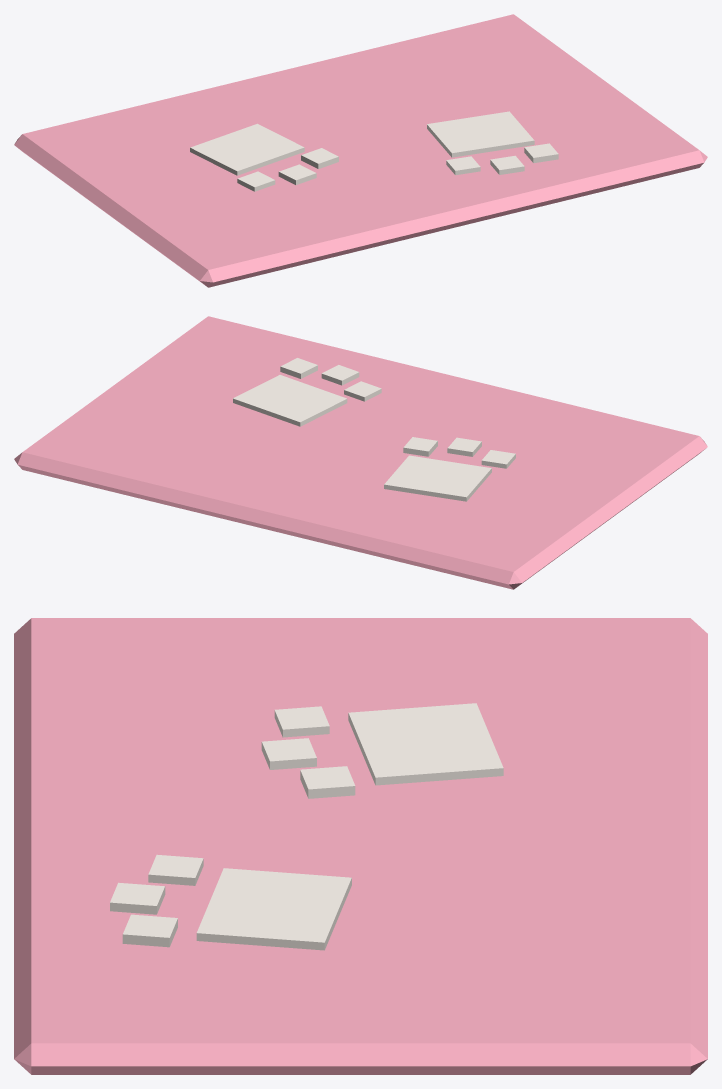
File: CleanACat_Prop_QueueMat.fbx
3 renders of one model, top to bottom at view 1: azimuth 30°, elevation 25°; view 2: azimuth 150°, elevation 25°; view 3: azimuth 270°, elevation 25°, orthographic. The views are drawn at different scales.
Visible parts, largest first — view 1: CleanACat_Prop_QueueMat; view 2: CleanACat_Prop_QueueMat; view 3: CleanACat_Prop_QueueMat.
Part boxes in pixels (<box>): CleanACat_Prop_QueueMat: <box>14,14,707,287</box>; CleanACat_Prop_QueueMat: <box>14,316,707,589</box>; CleanACat_Prop_QueueMat: <box>14,618,707,1074</box>.
Bounding box in the file's own units: 2.4 × 0.104 × 1.6.
Materials: 1 (1 with a texture image).
